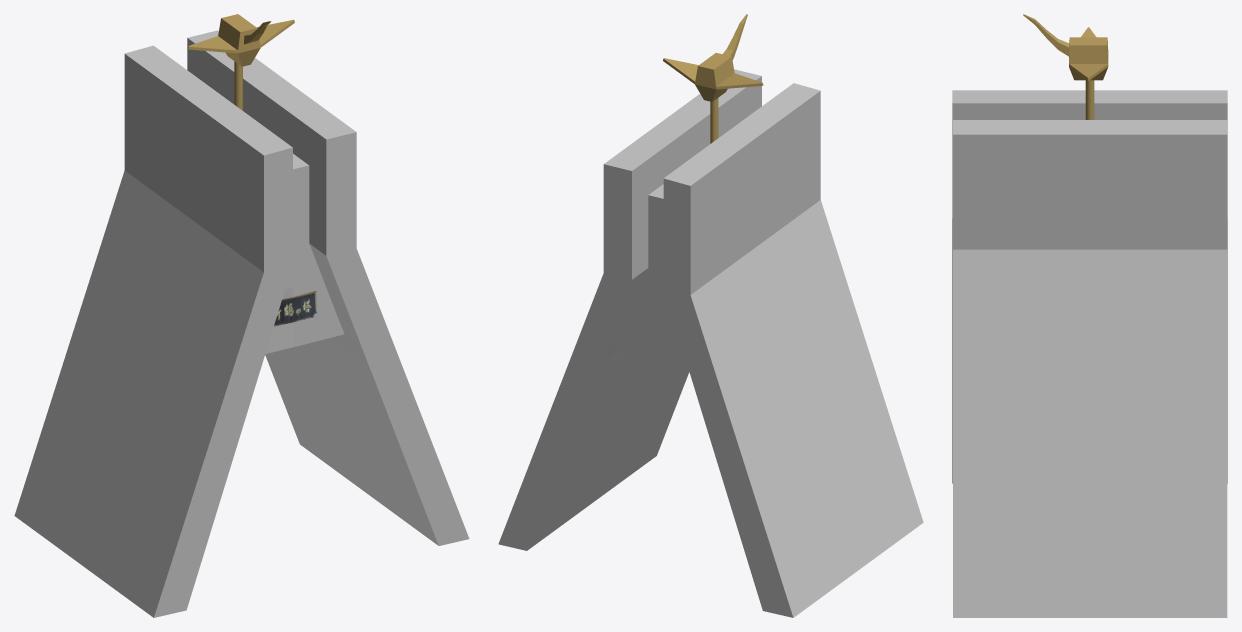
File: HouseCrane.fbx
3 renders of one model, left to right at view 1: azimuth 30°, elevation 25°; view 2: azimuth 150°, elevation 25°; view 3: azimuth 270°, elevation 25°, orthographic. The views are drawn at different scales.
Parts seen in each view (by area): view 1: HouseCrane; view 2: HouseCrane; view 3: HouseCrane.
Part boxes in pixels (x1,y1,x2,y2): HouseCrane: (14,14,469,617); HouseCrane: (498,14,923,617); HouseCrane: (952,14,1227,617).
Bounding box in the file's own units: 1930 × 3115 × 1474.
